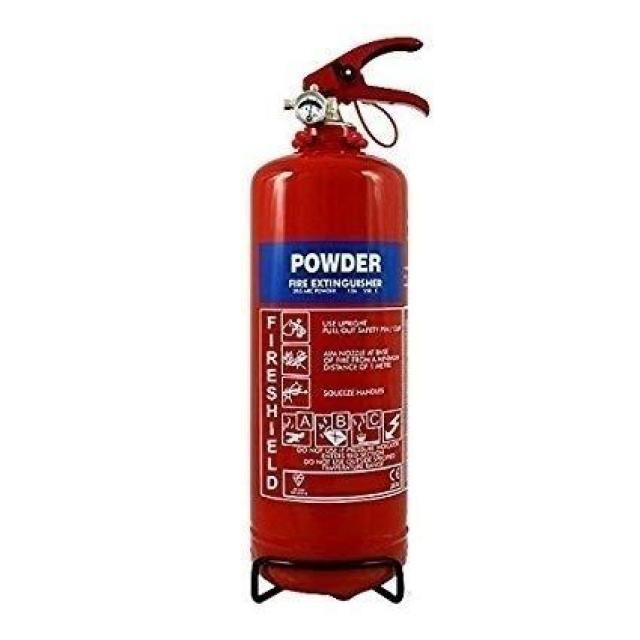fire_extinguisher: (238, 33, 434, 604)
